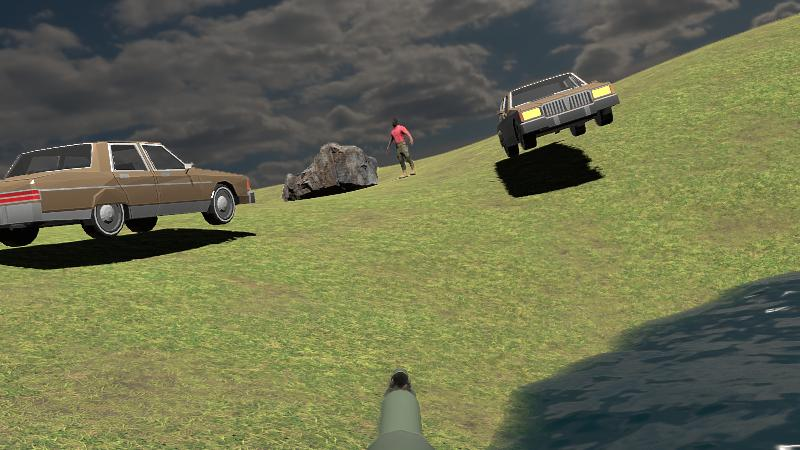Human: (389, 117, 415, 180)
car: (0, 140, 256, 247), (497, 71, 619, 159)
